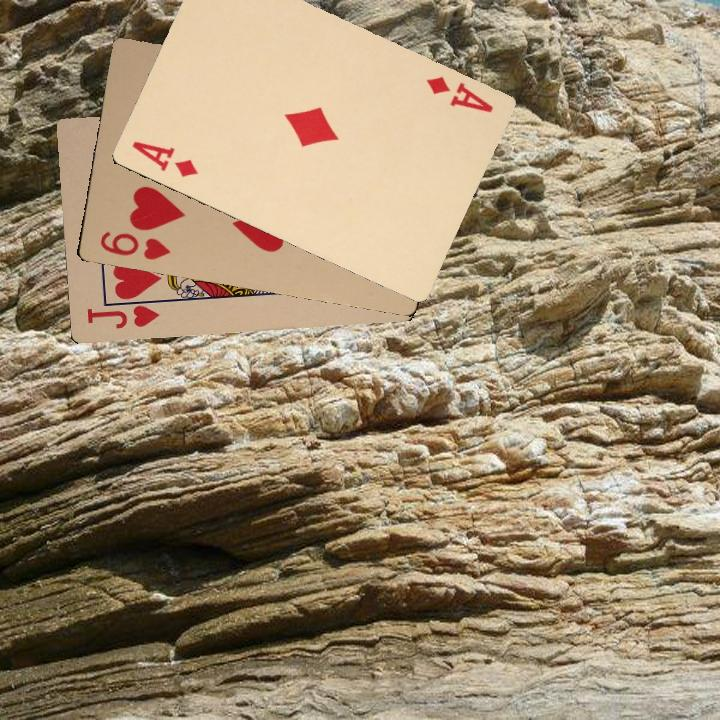6h: (96, 227, 172, 263)
Ad: (128, 137, 202, 180), (423, 72, 496, 115)
Jh: (83, 295, 162, 332)
